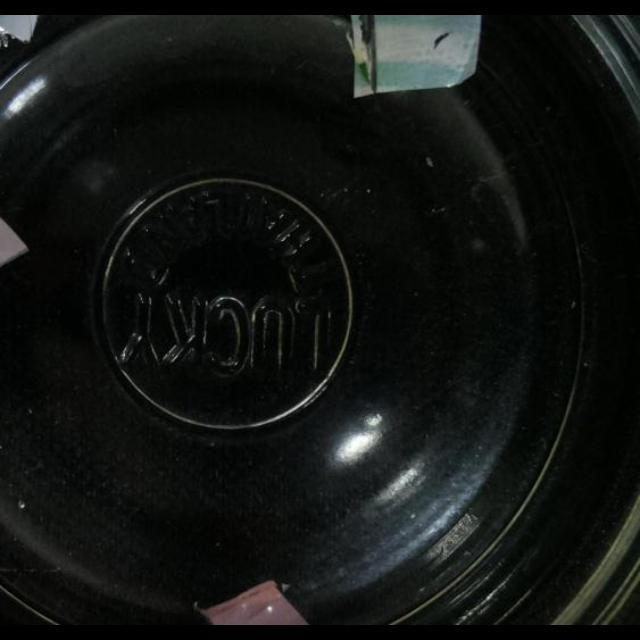Fragment: (345, 15, 485, 100), (196, 581, 310, 625), (0, 217, 32, 267), (0, 16, 34, 38)
